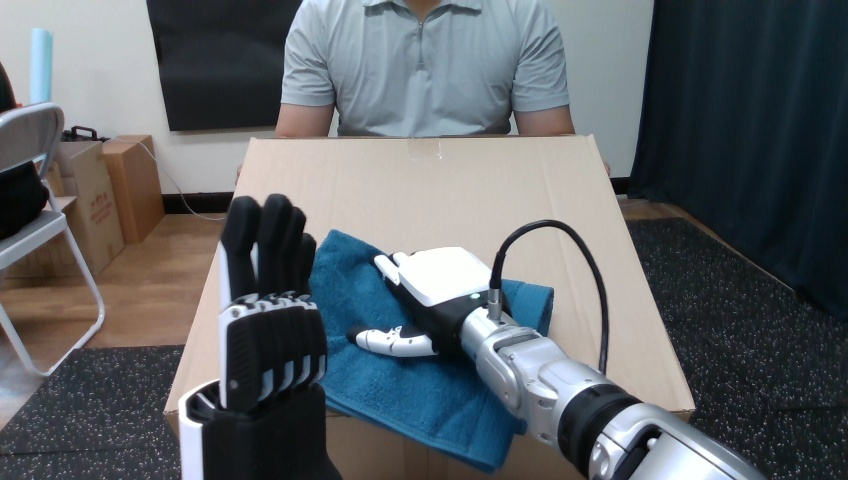left robot hand: (348, 220, 763, 479), (179, 194, 340, 479), (500, 227, 601, 369)
